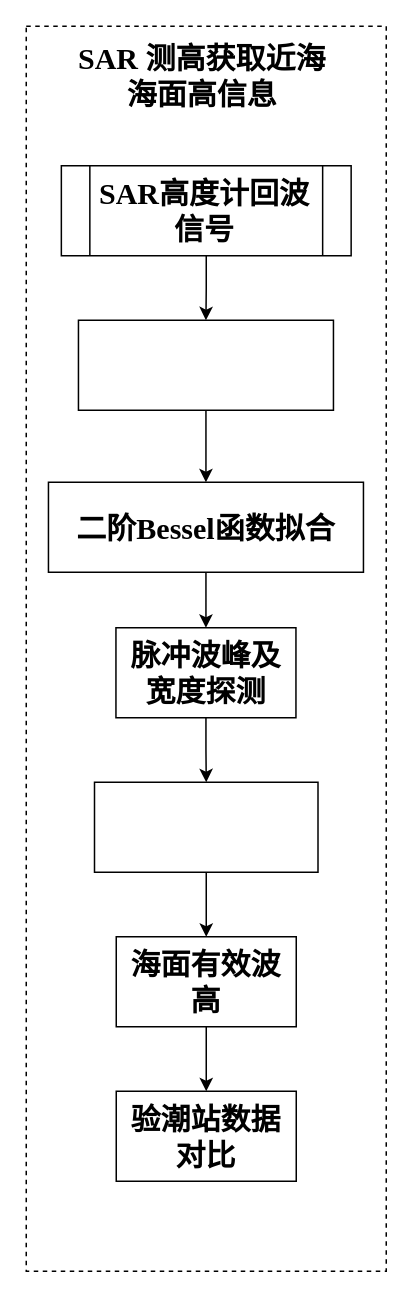
Some shapes in this 413 by 1298 pixel diagram are drawn without their labels. Here are the shapes that lost their labels. From the top down, the box of each, then its label:
(77, 319, 333, 410): 地球物理学改正
(93, 781, 318, 872): Retracking
